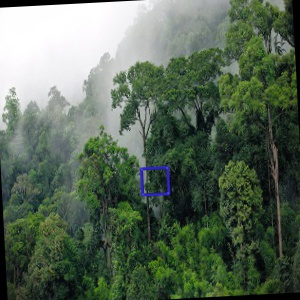square: (138, 164, 172, 198)
